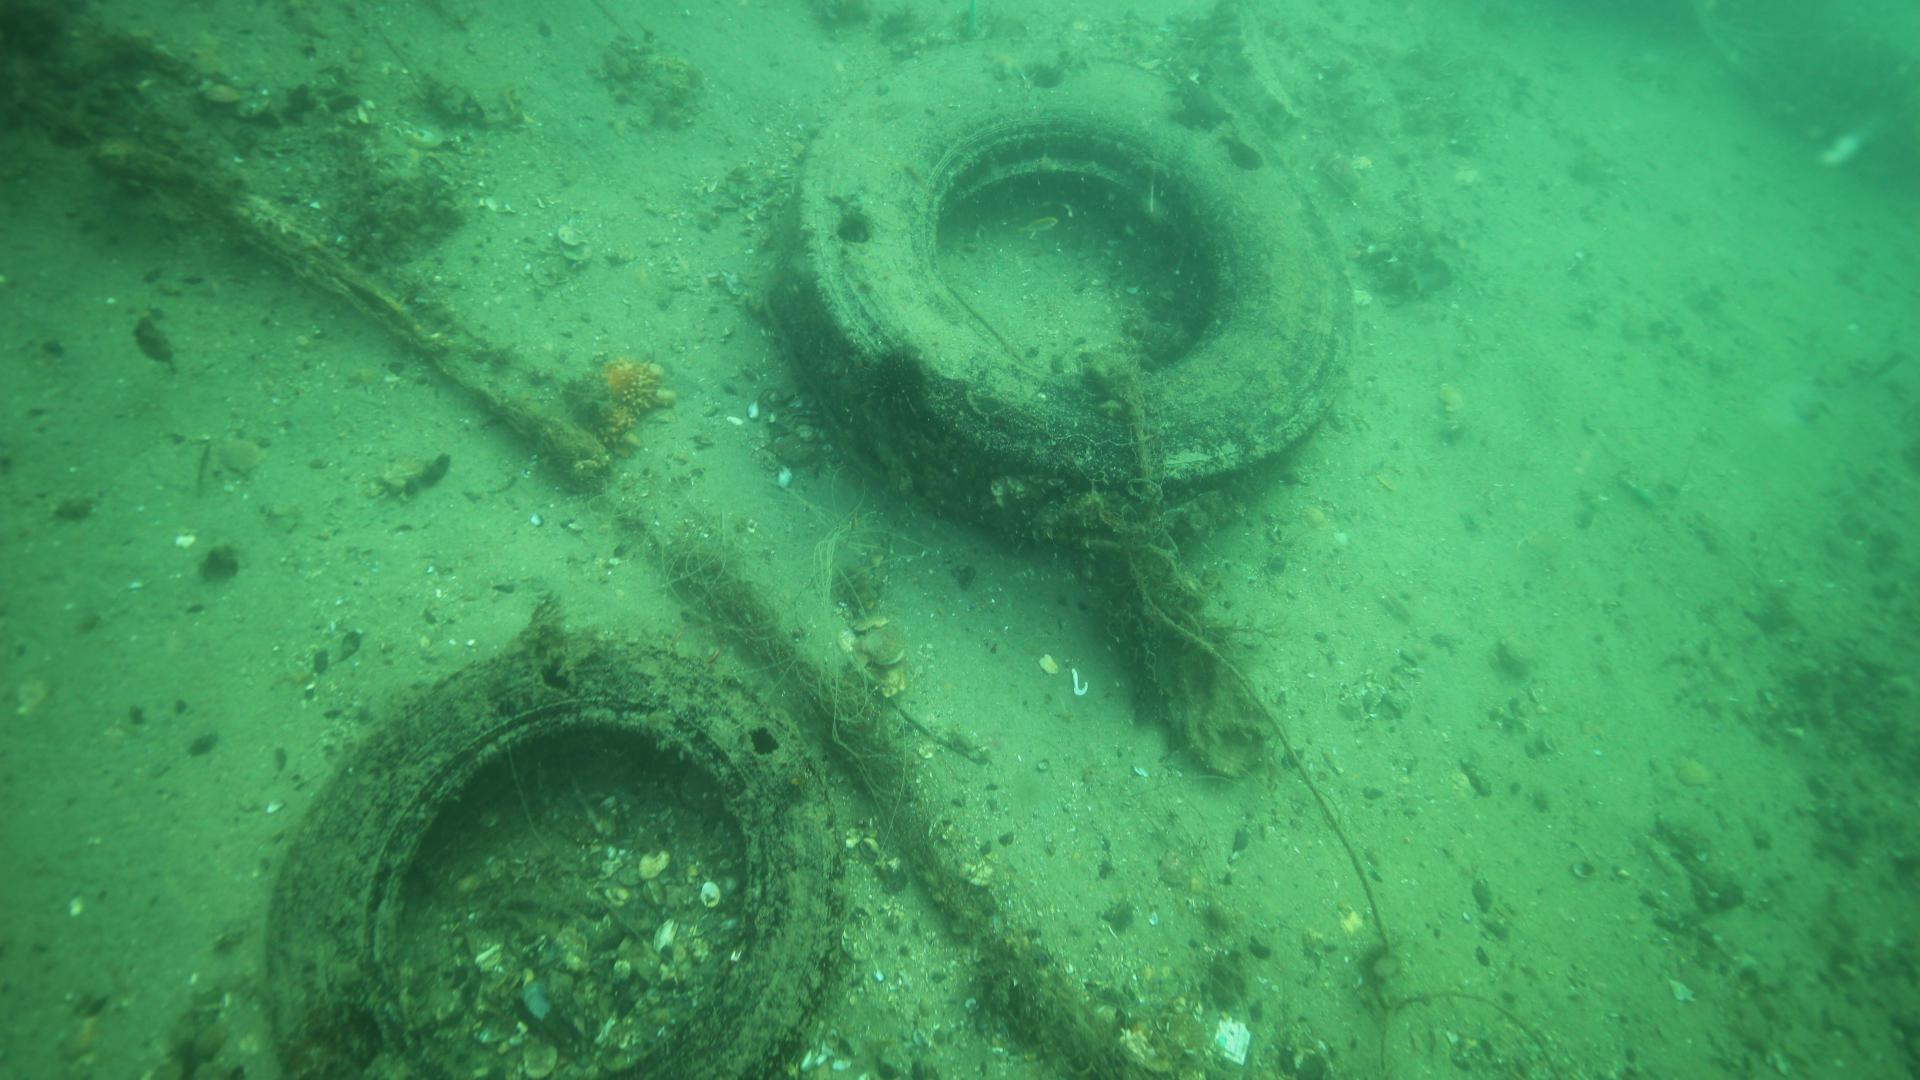tire: (786, 47, 1346, 516), (262, 626, 837, 1080)
